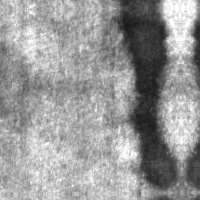patches: (120, 8, 175, 187)
